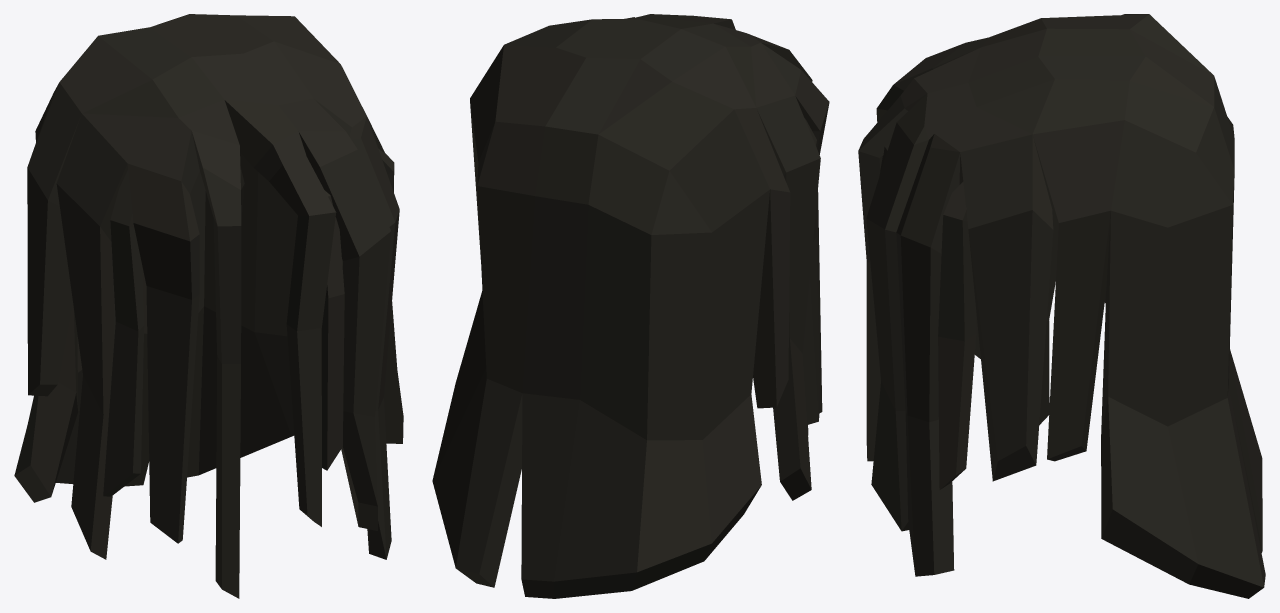
File: SM_Chr_Attach_Wretch_Hair_02.fbx
3 views of the same model, side by side, from view 1: azimuth 30°, elevation 25°; view 2: azimuth 150°, elevation 25°; view 3: azimuth 270°, elevation 25° (orthographic). The views are drawn at different scales.
Visible parts, largest first — view 1: SM_Chr_Attach_Wretch_Hair_02; view 2: SM_Chr_Attach_Wretch_Hair_02; view 3: SM_Chr_Attach_Wretch_Hair_02.
Part boxes in pixels (x1,y1,x2,y2): SM_Chr_Attach_Wretch_Hair_02: (14,14,403,598); SM_Chr_Attach_Wretch_Hair_02: (432,14,829,598); SM_Chr_Attach_Wretch_Hair_02: (858,14,1265,598).
Bounding box in the file's own units: 28.77 × 43.48 × 31.03.
